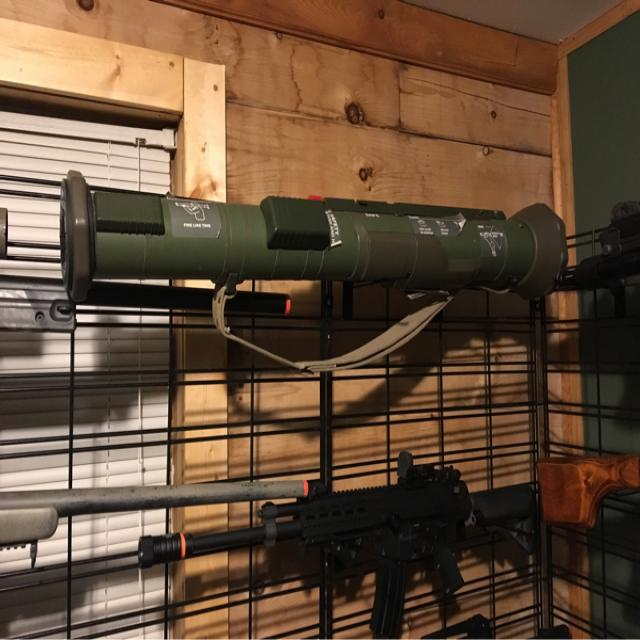bazooka: (41, 130, 590, 373)
